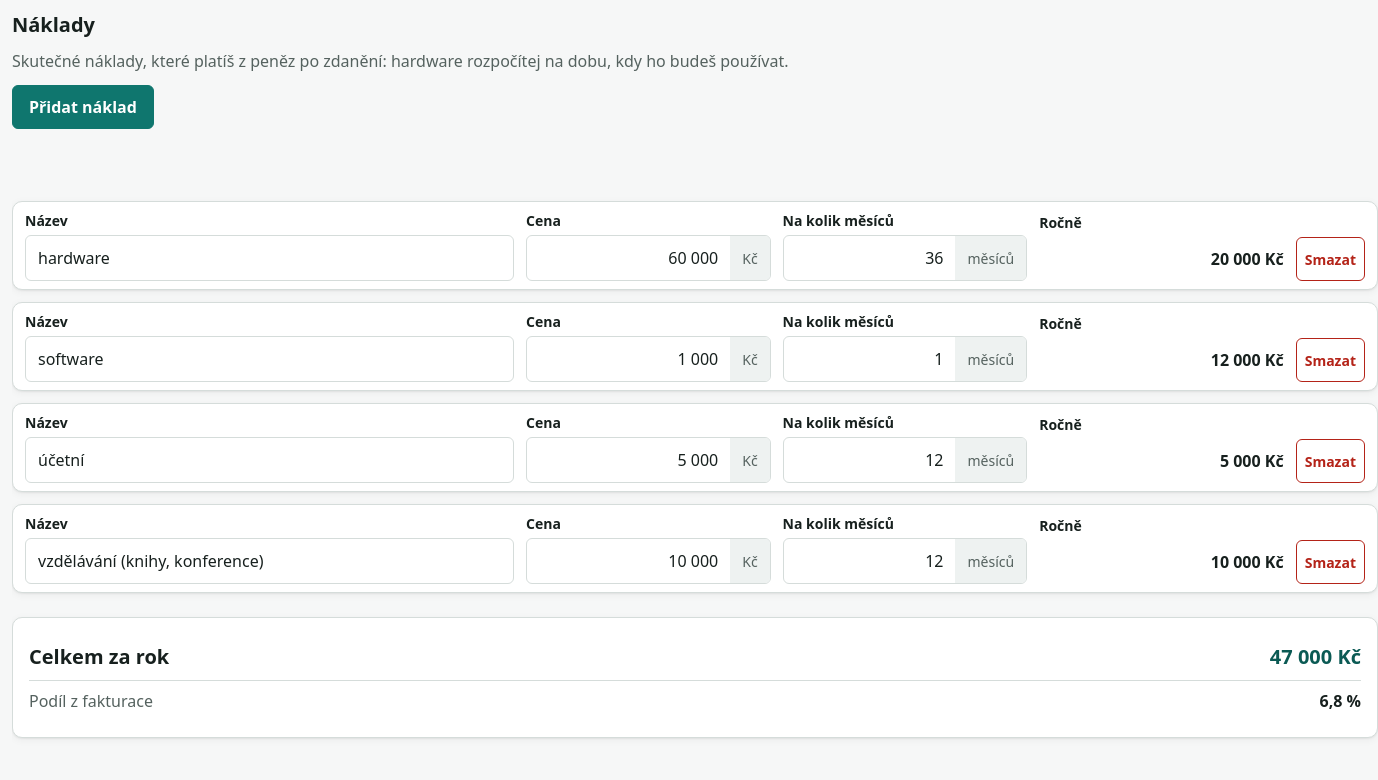
Test case: CostsScreen › deletes a row and offers to undo it, restoring it in its place
Click the button with aria-label "Smazat hardware" at (1330, 259), box [1296, 237, 1365, 281]
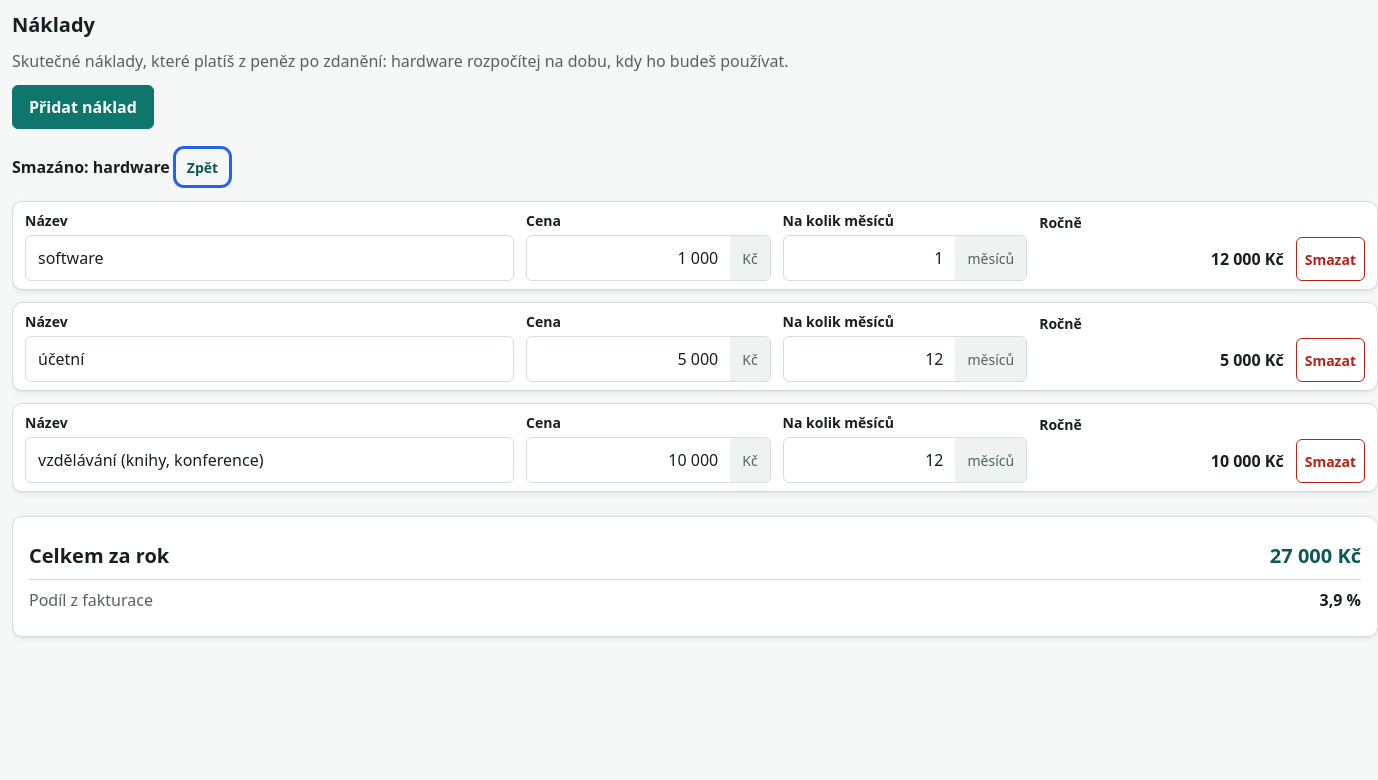
Click the button "Zpět" at (202, 167), box [178, 151, 227, 183]
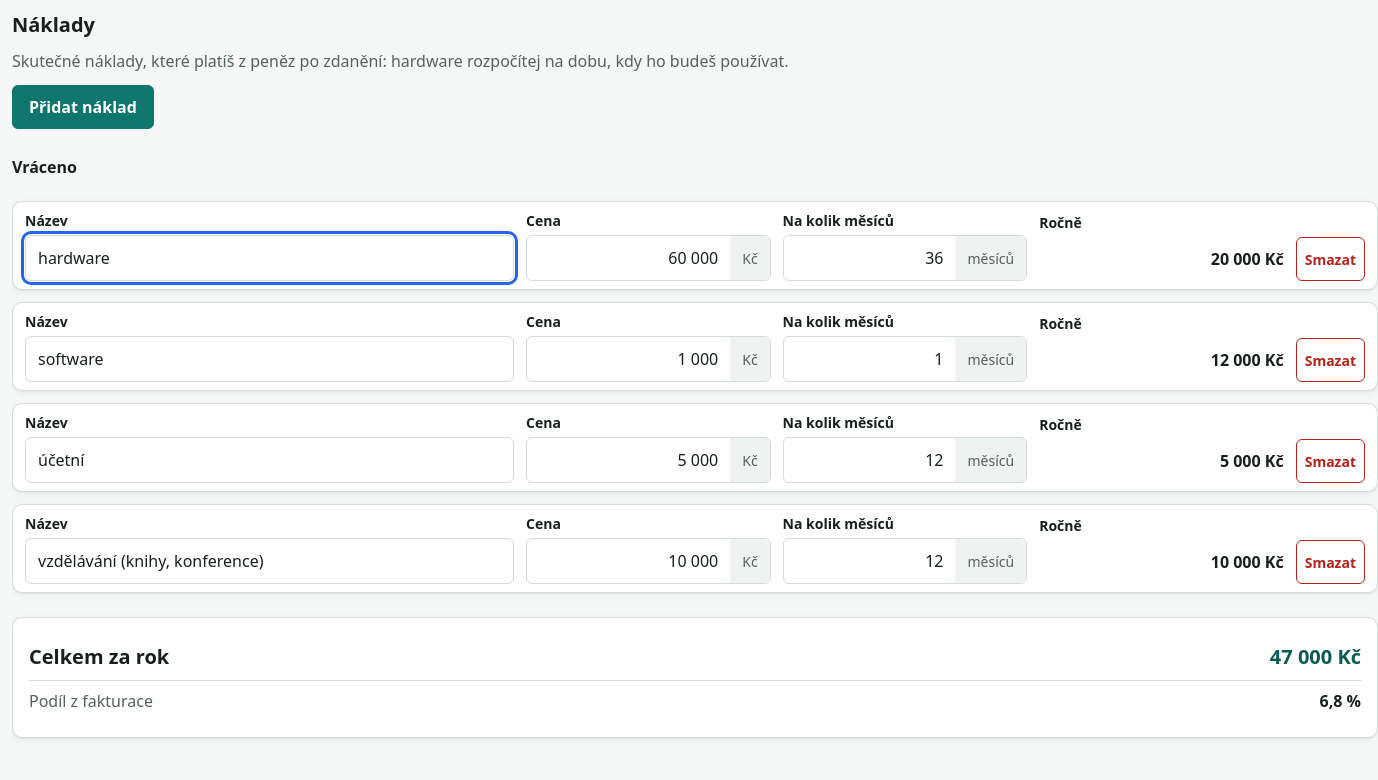
Check: the message "Vráceno" is shown, box [12, 155, 77, 179]
